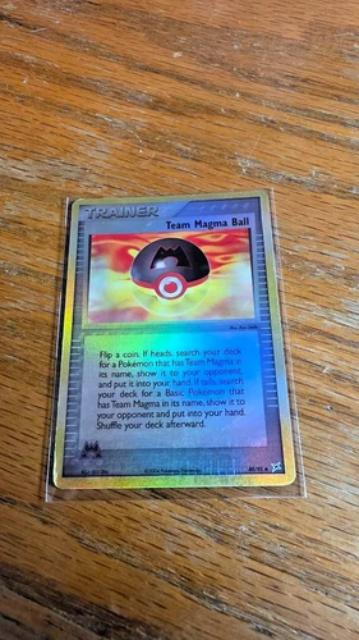Card: (50, 184, 303, 495)
Name: (160, 212, 256, 233)
